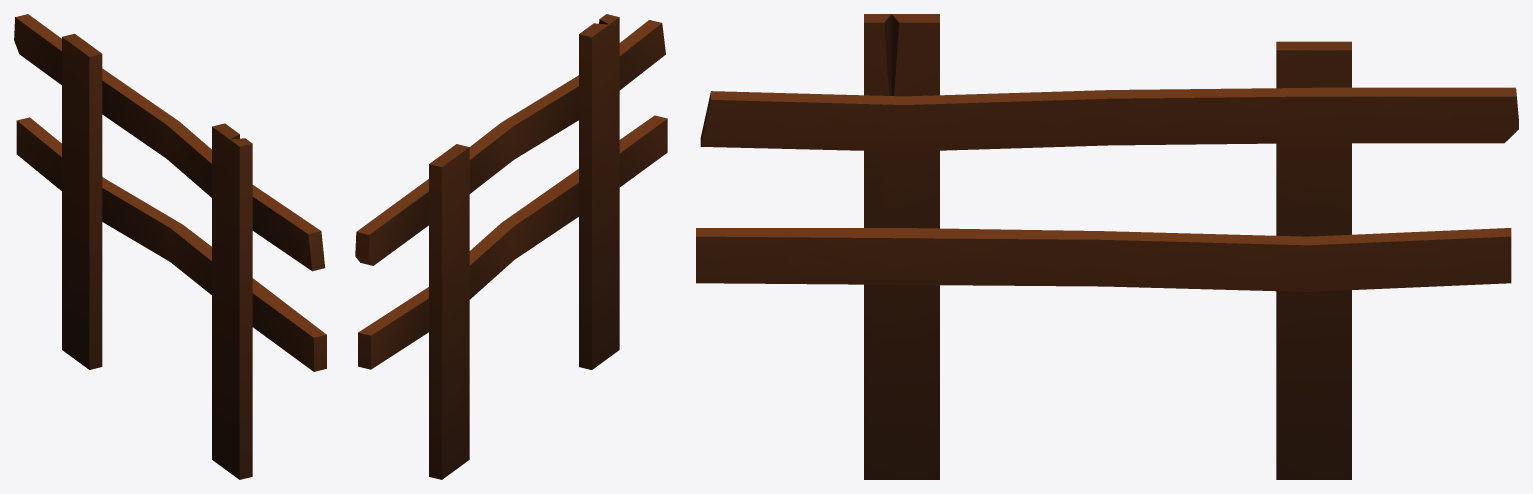
Rendered from Fence_2B.fbx.
3 views of the same model, side by side, from view 1: azimuth 30°, elevation 25°; view 2: azimuth 150°, elevation 25°; view 3: azimuth 270°, elevation 25° (orthographic). The views are drawn at different scales.
Visible parts, largest first — view 1: Fence_2B; view 2: Fence_2B; view 3: Fence_2B.
Boxes of the visible parts, x1,y1,x2,y2 form: Fence_2B: (14,14,326,479); Fence_2B: (355,14,667,479); Fence_2B: (696,14,1518,479).
Size of the model in its own units: 11.88 by 122 by 200.
